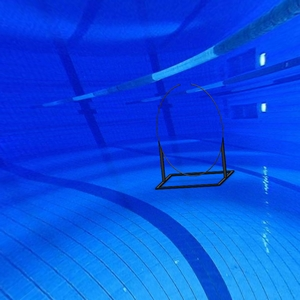circle: (153, 81, 236, 192)
